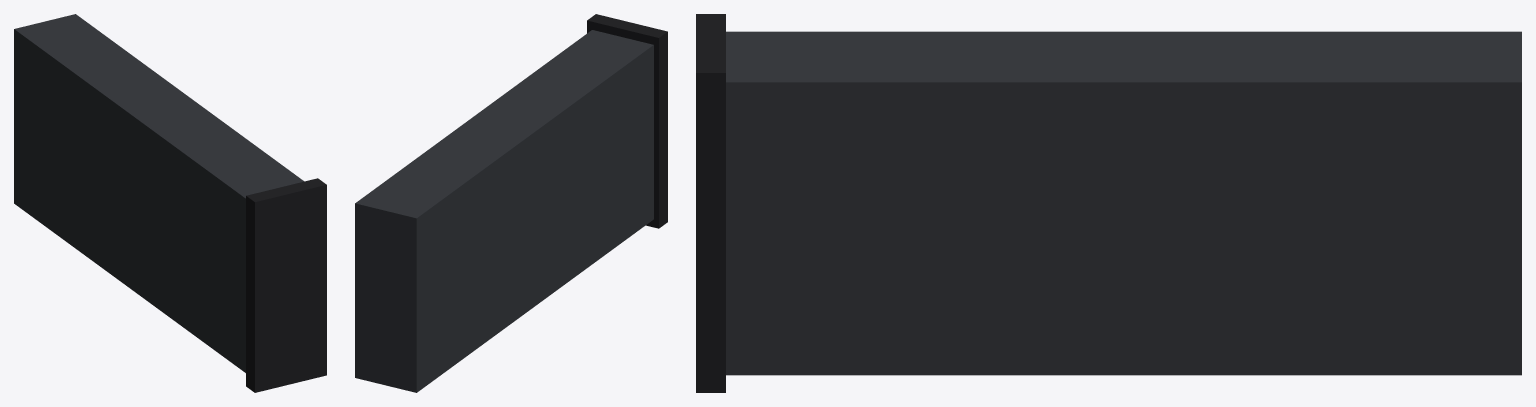
Rendered from Galil_Mag50.fbx.
3 renders of one model, left to right at view 1: azimuth 30°, elevation 25°; view 2: azimuth 150°, elevation 25°; view 3: azimuth 270°, elevation 25°, orthographic. The views are drawn at different scales.
Visible parts, largest first — view 1: prims; view 2: prims; view 3: prims.
Boxes of the visible parts, <box> form: prims: <box>14,14,326,392</box>; prims: <box>355,14,667,392</box>; prims: <box>696,14,1521,392</box>.
Bounding box in the file's own units: 0.0168 × 0.0426 × 0.0996.
